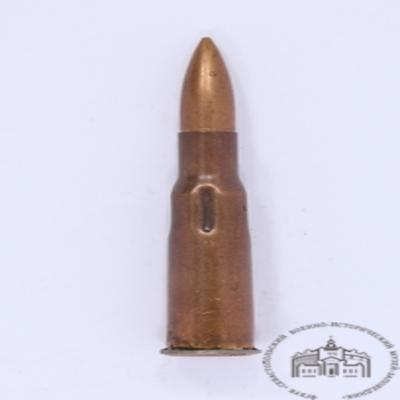weapon: (159, 37, 257, 357)
